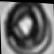correct: (3, 0, 53, 54)
